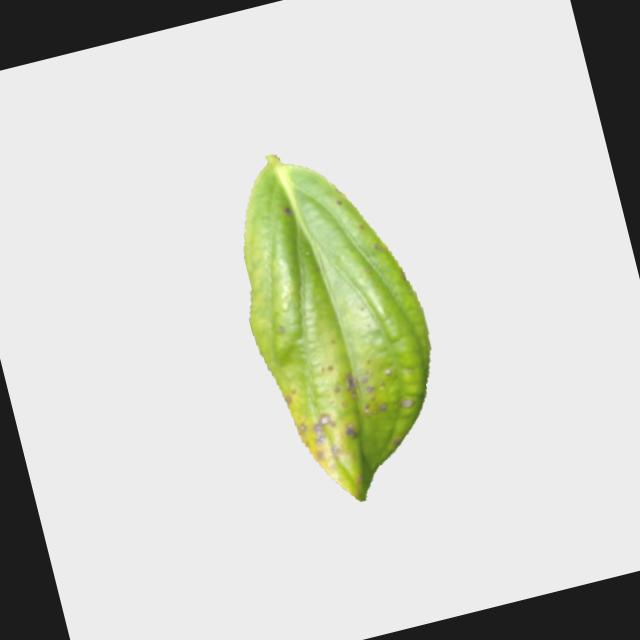yellow-mottle-virus: (207, 126, 467, 519)
